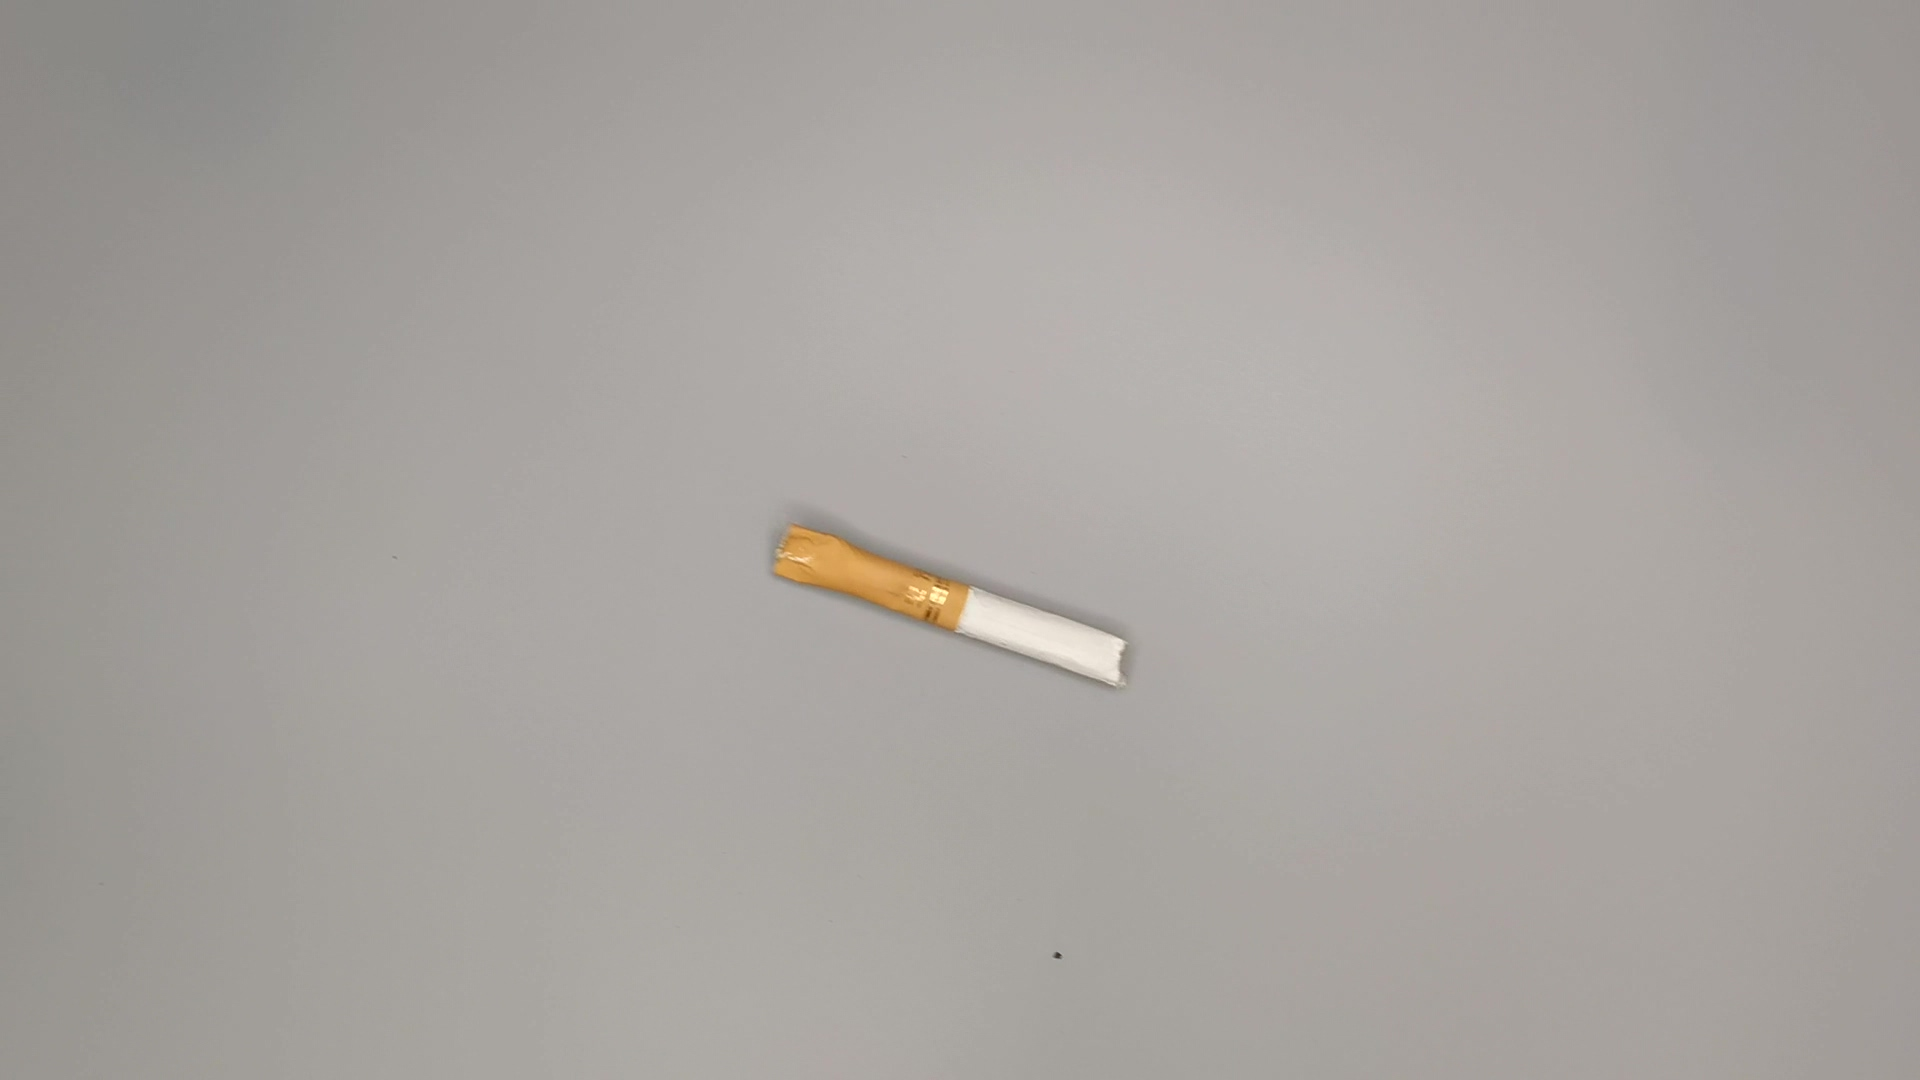cigarette: (762, 520, 1133, 702)
